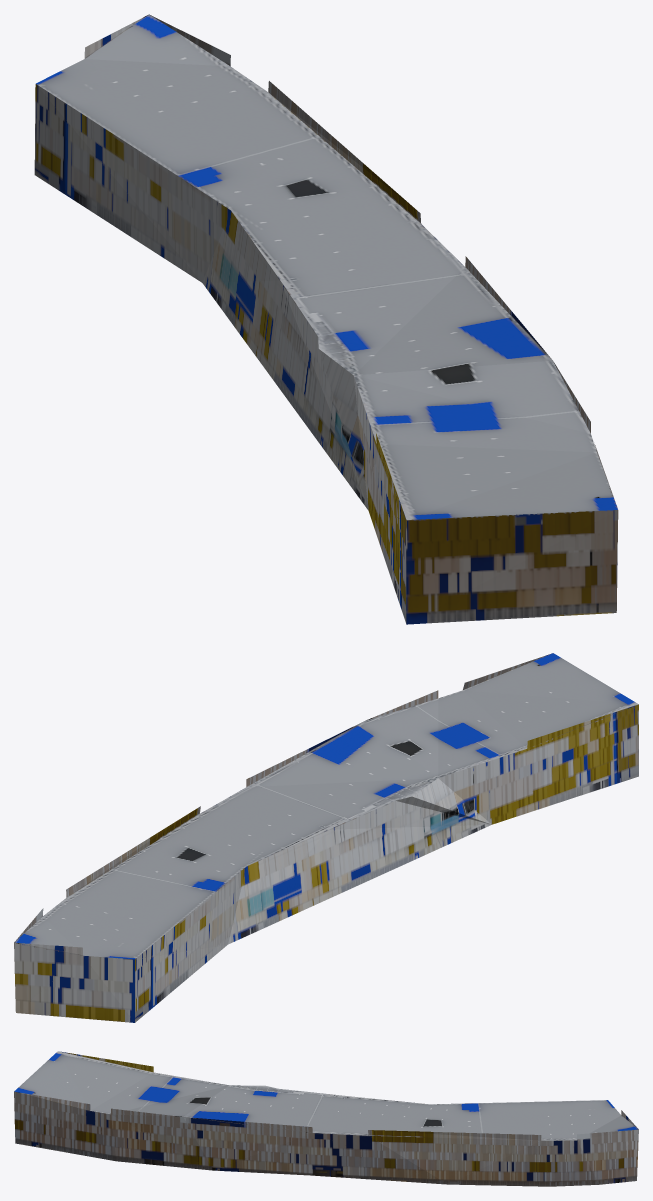
The picture shows the model from 3 angles, top to bottom: view 1: azimuth 30°, elevation 25°; view 2: azimuth 150°, elevation 25°; view 3: azimuth 270°, elevation 25°; orthographic projection. The views are drawn at different scales.
Parts seen in each view (by area): view 1: 1.04; view 2: 1.04; view 3: 1.04.
Boxes of the visible parts, x1,y1,x2,y2 form: 1.04: [34, 14, 618, 624]; 1.04: [14, 653, 638, 1022]; 1.04: [14, 1051, 638, 1186].
Bounding box in the file's own units: 81.87 × 23.92 × 256.
1 material, 1 textured.
